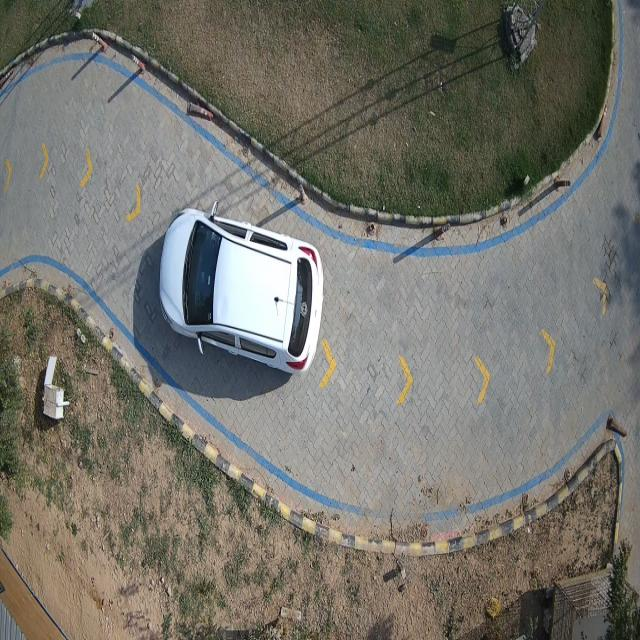car: (160, 202, 324, 371)
